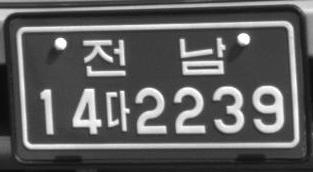1: (34, 87, 61, 136)
2: (172, 85, 207, 135), (134, 85, 168, 136)
3: (210, 84, 246, 135)
4: (70, 86, 102, 136)
9: (250, 84, 285, 135)
다: (104, 89, 131, 132)
전남_D: (81, 35, 226, 79)
